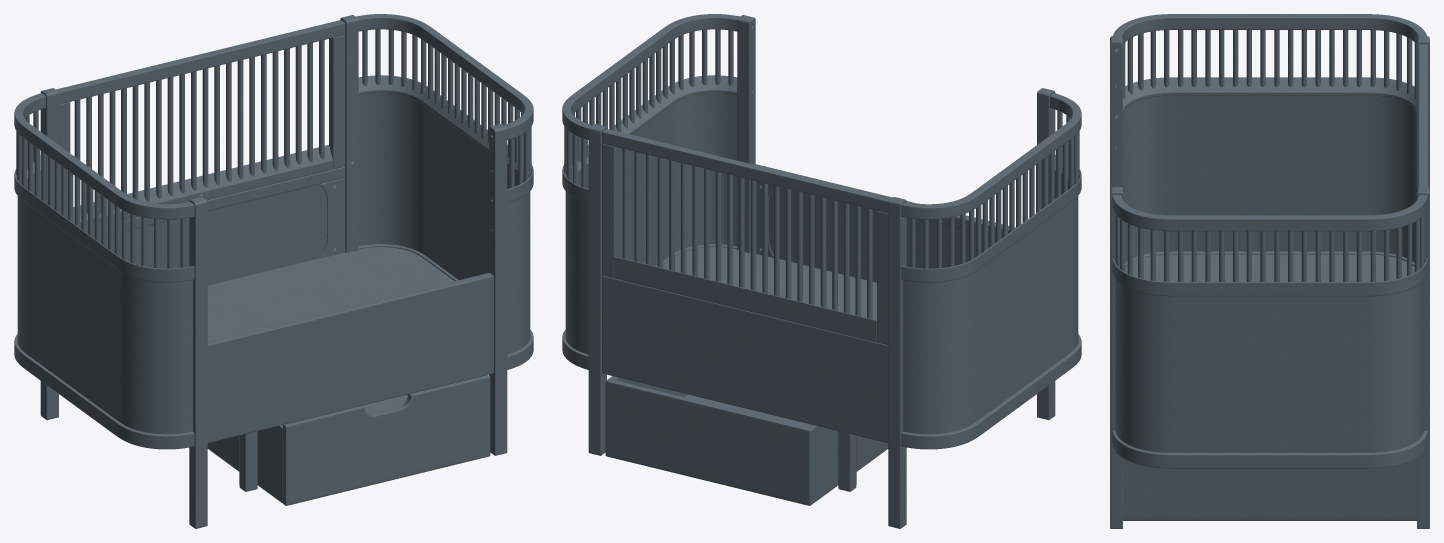
File: SEBRA_BED_Static_ForestLakeBlue_c.glb
3 renders of one model, left to right at view 1: azimuth 30°, elevation 25°; view 2: azimuth 150°, elevation 25°; view 3: azimuth 270°, elevation 25°, orthographic. The views are drawn at different scales.
Visible parts, largest first — view 1: Bed_1, Bed_3, Bed_2; view 2: Bed_1, Bed_3, Bed_2; view 3: Bed_1, Bed_3, Bed_2.
Boxes of the visible parts, x1,y1,x2,y2 form: Bed_1: (14,14,533,528); Bed_3: (16,29,531,268); Bed_2: (207,247,454,341); Bed_1: (562,14,1081,528); Bed_3: (564,29,1079,318); Bed_2: (663,247,876,320); Bed_1: (1110,14,1429,528); Bed_3: (1115,30,1424,281); Bed_2: (1125,254,1414,281).
Bounding box in the file's own units: 1.15 × 0.88 × 0.7585.
Materials: 3 (2 with a texture image).
